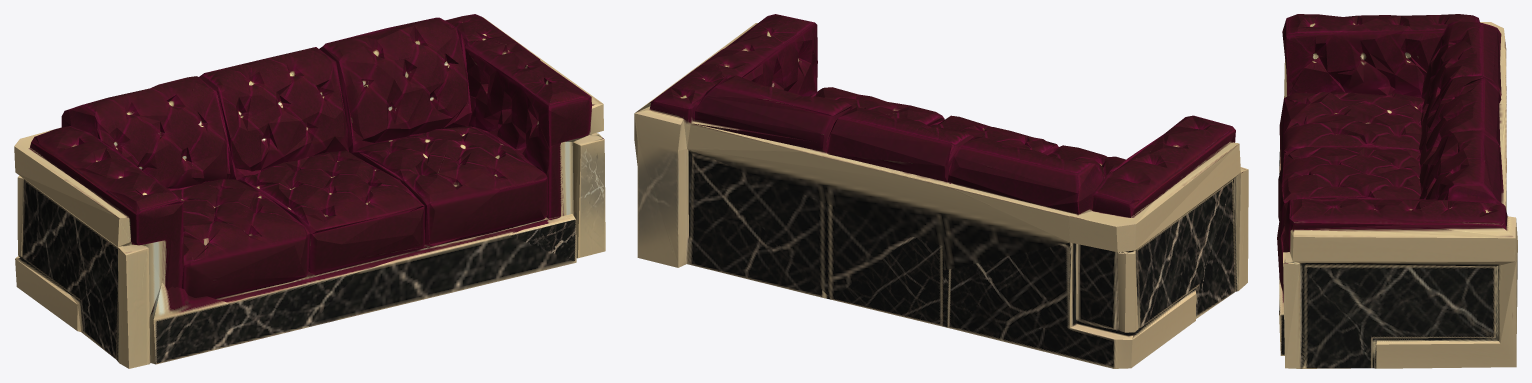
The model's file is sofa_upgraded_opt.glb.
3 views of the same model, side by side, from view 1: azimuth 30°, elevation 25°; view 2: azimuth 150°, elevation 25°; view 3: azimuth 270°, elevation 25° (orthographic). The views are drawn at different scales.
Parts seen in each view (by area): view 1: output_unwrapped; view 2: output_unwrapped; view 3: output_unwrapped.
Part boxes in pixels (x1,y1,x2,y2): output_unwrapped: (14, 14, 605, 368); output_unwrapped: (634, 14, 1248, 368); output_unwrapped: (1277, 14, 1517, 368).
Size of the model in its own units: 1.9 by 0.6706 by 0.8894.
Materials: 1 (1 with a texture image).
